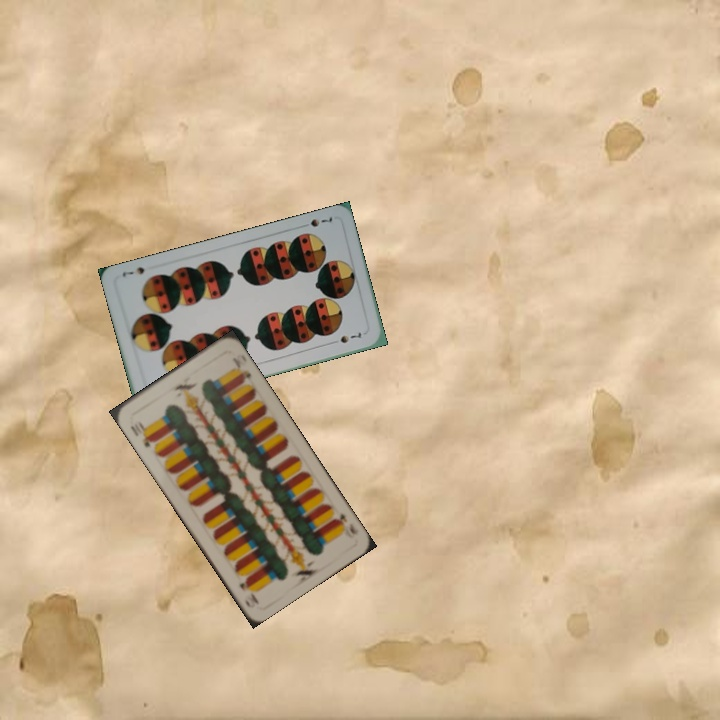E10: (126, 417, 157, 450), (330, 509, 361, 541)
S7: (297, 212, 335, 230)
